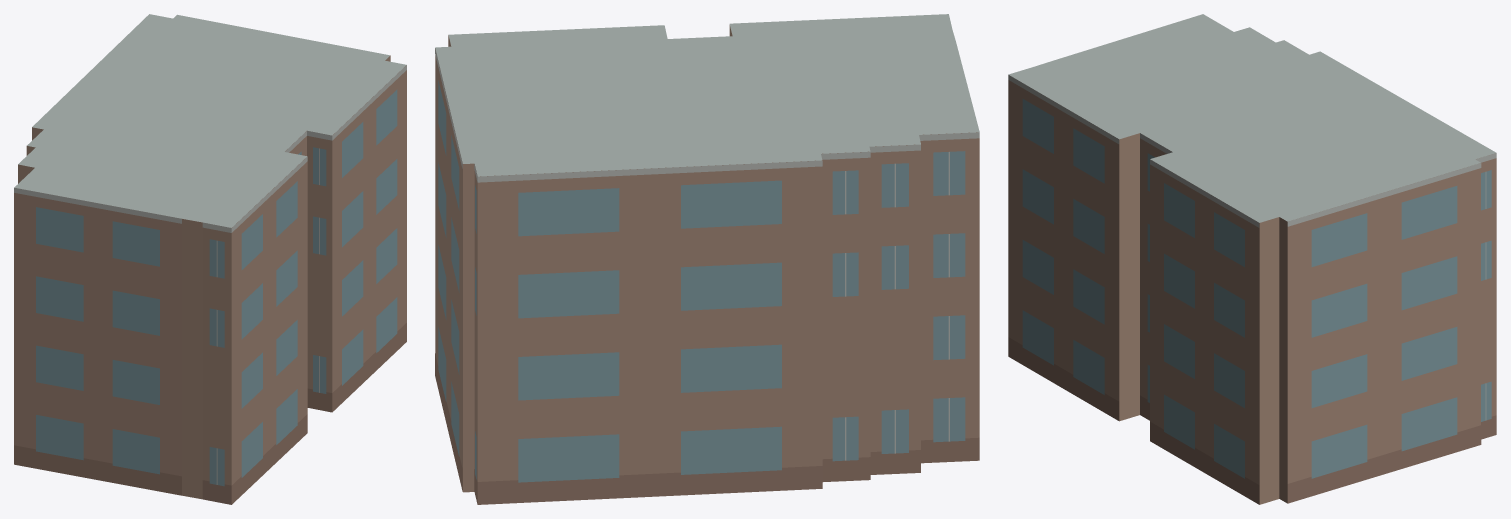
File: survey-upis-32929273.glb
The picture shows the model from 3 angles, left to right: view 1: azimuth 30°, elevation 25°; view 2: azimuth 150°, elevation 25°; view 3: azimuth 270°, elevation 25°; orthographic projection. The views are drawn at different scales.
Parts seen in each view (by area): view 1: survey-upis-32929273.tmp; view 2: survey-upis-32929273.tmp; view 3: survey-upis-32929273.tmp.
Boxes of the visible parts, bbox=[...] form: survey-upis-32929273.tmp: bbox=[14, 14, 406, 504]; survey-upis-32929273.tmp: bbox=[435, 14, 979, 504]; survey-upis-32929273.tmp: bbox=[1008, 14, 1496, 504].
Bounding box in the file's own units: 21.04 × 13.24 × 20.79.
